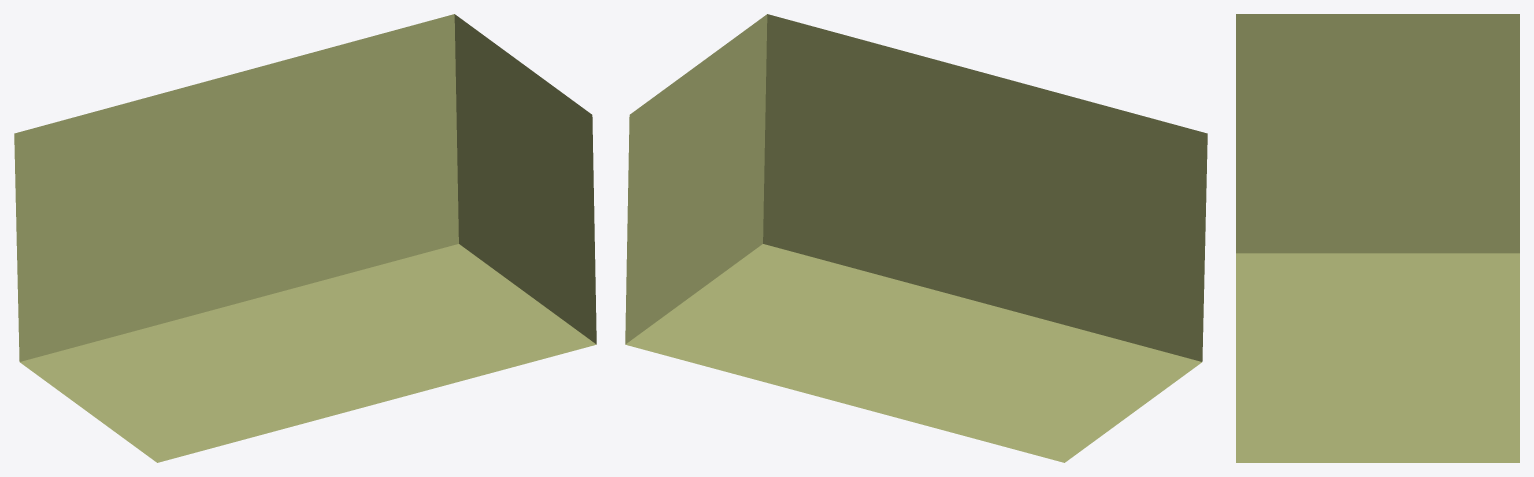
3 views of the same model, side by side, from view 1: azimuth 30°, elevation 25°; view 2: azimuth 150°, elevation 25°; view 3: azimuth 270°, elevation 25° (orthographic). The views are drawn at different scales.
Parts seen in each view (by area): view 1: 0_0_2_0_0_1_1_1_1_0_2; view 2: 0_0_2_0_0_1_1_1_1_0_2; view 3: 0_0_2_0_0_1_1_1_1_0_2.
Part boxes in pixels (x1,y1,x2,y2): 0_0_2_0_0_1_1_1_1_0_2: (14,14,596,462); 0_0_2_0_0_1_1_1_1_0_2: (625,14,1207,462); 0_0_2_0_0_1_1_1_1_0_2: (1236,14,1519,462).
Bounding box in the file's own units: 11.18 × 5.81 × 6.
